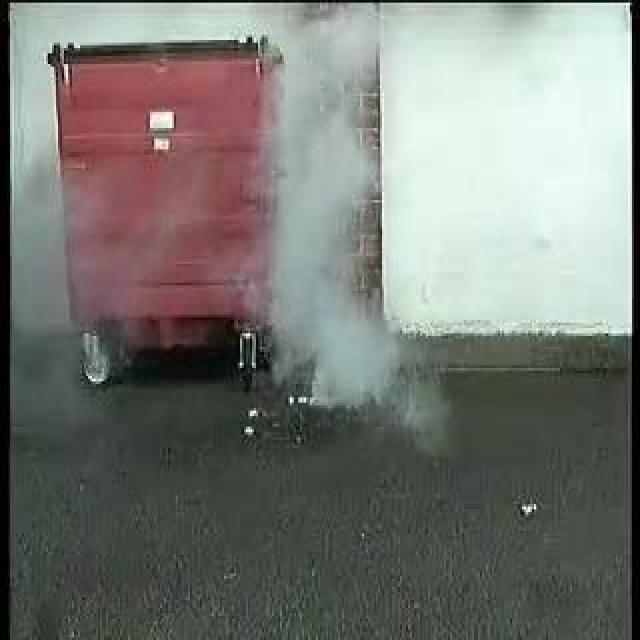Smoke: (267, 41, 395, 415)
